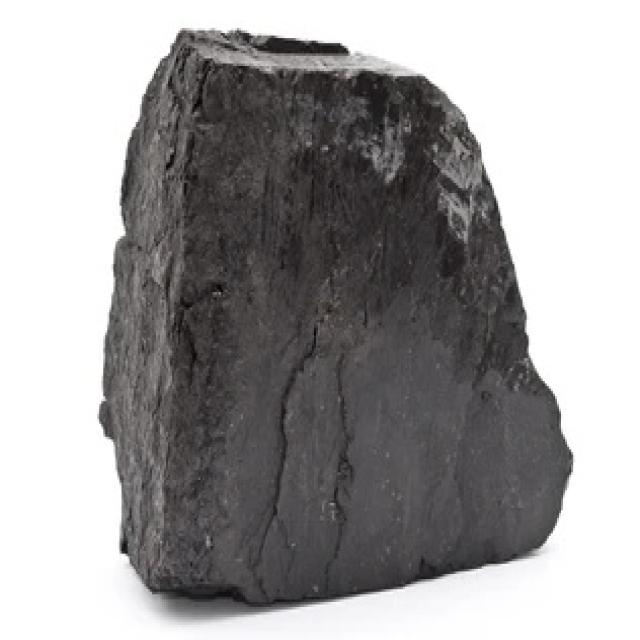Sedimentary: (95, 26, 575, 610)
